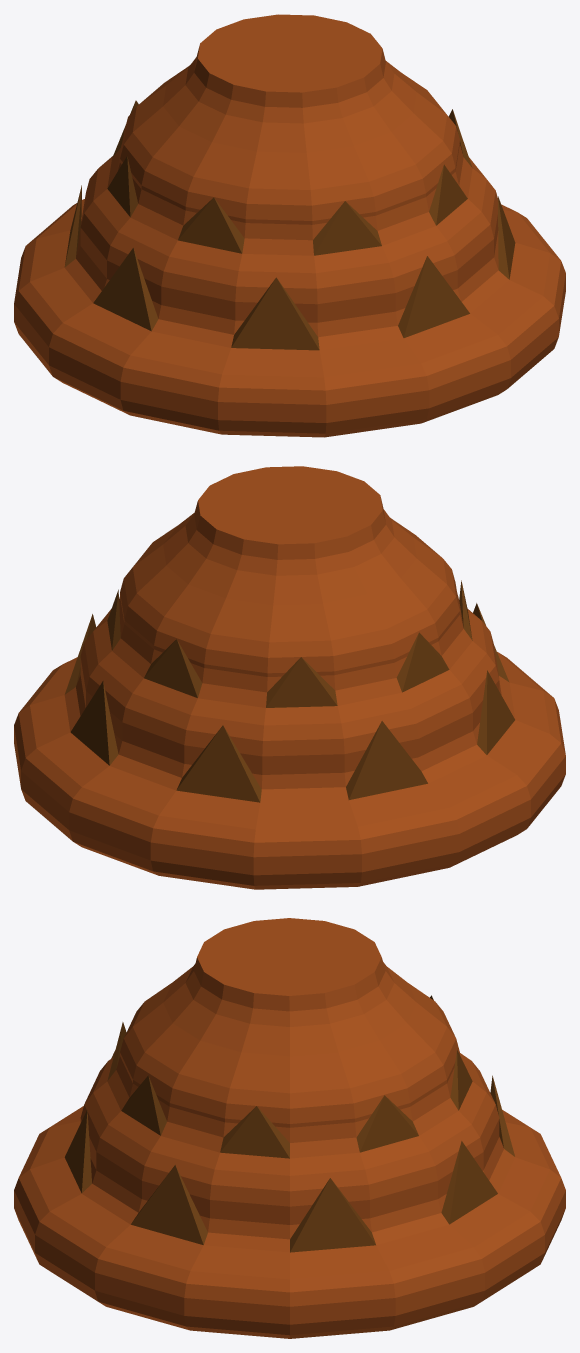
The model's file is agackokson.fbx.
3 views of the same model, one above another, from view 1: azimuth 30°, elevation 25°; view 2: azimuth 150°, elevation 25°; view 3: azimuth 270°, elevation 25° (orthographic).
Parts seen in each view (by area): view 1: Cylinder.022, Cylinder.016, Cylinder.023; view 2: Cylinder.022, Cylinder.016, Cylinder.023; view 3: Cylinder.022, Cylinder.016, Cylinder.023.
Part boxes in pixels (box(x1,y1,x2,y2)): Cylinder.022: box(14, 14, 565, 437); Cylinder.016: box(64, 185, 515, 350); Cylinder.023: box(107, 100, 472, 255); Cylinder.022: box(14, 466, 565, 889); Cylinder.016: box(65, 603, 514, 802); Cylinder.023: box(107, 580, 472, 707); Cylinder.022: box(14, 918, 565, 1338); Cylinder.016: box(64, 1050, 514, 1252); Cylinder.023: box(107, 995, 472, 1158).
Bounding box in the file's own units: 5.98 × 3.62 × 5.98.
